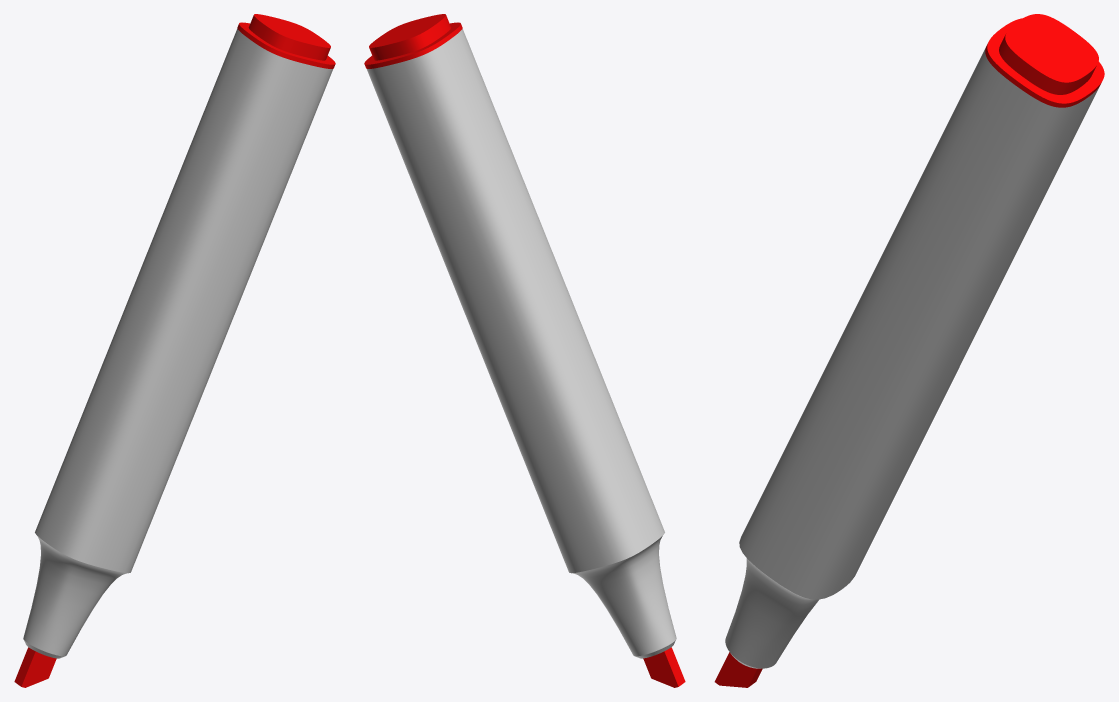
Rendered from Marker - Red.dae.
3 renders of one model, left to right at view 1: azimuth 30°, elevation 25°; view 2: azimuth 150°, elevation 25°; view 3: azimuth 330°, elevation 25°, orthographic. The views are drawn at different scales.
Parts seen in each view (by area): view 1: a2f76c75-5674-4db0-aa56-46b6ae08e4ab, d591b145-74d6-4d95-8ba9-9ac484266586, a040ed02-c9ed-4b63-a210-b8e42ccbc056; view 2: a2f76c75-5674-4db0-aa56-46b6ae08e4ab, d591b145-74d6-4d95-8ba9-9ac484266586, a040ed02-c9ed-4b63-a210-b8e42ccbc056; view 3: a2f76c75-5674-4db0-aa56-46b6ae08e4ab, d591b145-74d6-4d95-8ba9-9ac484266586, a040ed02-c9ed-4b63-a210-b8e42ccbc056.
Boxes of the visible parts, x1=… form: a2f76c75-5674-4db0-aa56-46b6ae08e4ab: x1=23, y1=29, x2=332, y2=658; d591b145-74d6-4d95-8ba9-9ac484266586: x1=237, y1=14, x2=335, y2=68; a040ed02-c9ed-4b63-a210-b8e42ccbc056: x1=14, y1=647, x2=56, y2=687; a2f76c75-5674-4db0-aa56-46b6ae08e4ab: x1=367, y1=29, x2=676, y2=658; d591b145-74d6-4d95-8ba9-9ac484266586: x1=364, y1=14, x2=462, y2=68; a040ed02-c9ed-4b63-a210-b8e42ccbc056: x1=643, y1=647, x2=685, y2=687; a2f76c75-5674-4db0-aa56-46b6ae08e4ab: x1=725, y1=48, x2=1099, y2=668; d591b145-74d6-4d95-8ba9-9ac484266586: x1=985, y1=14, x2=1104, y2=107; a040ed02-c9ed-4b63-a210-b8e42ccbc056: x1=714, y1=652, x2=762, y2=687.
Size of the model in its own units: 75.97 by 20 by 143.
